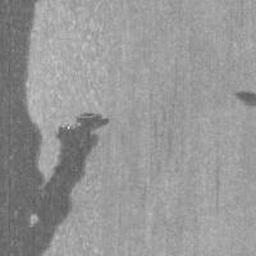Water spot: (0, 0, 111, 256), (232, 88, 256, 108)
